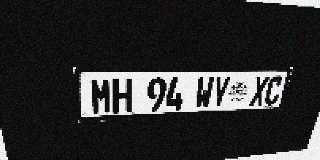4: (165, 77, 185, 111)
9: (147, 77, 167, 112)
C: (263, 76, 284, 105)
H: (112, 78, 132, 113)
M: (90, 78, 112, 115)
W: (194, 77, 214, 109)
X: (249, 76, 270, 106)
Y: (210, 77, 231, 108)
